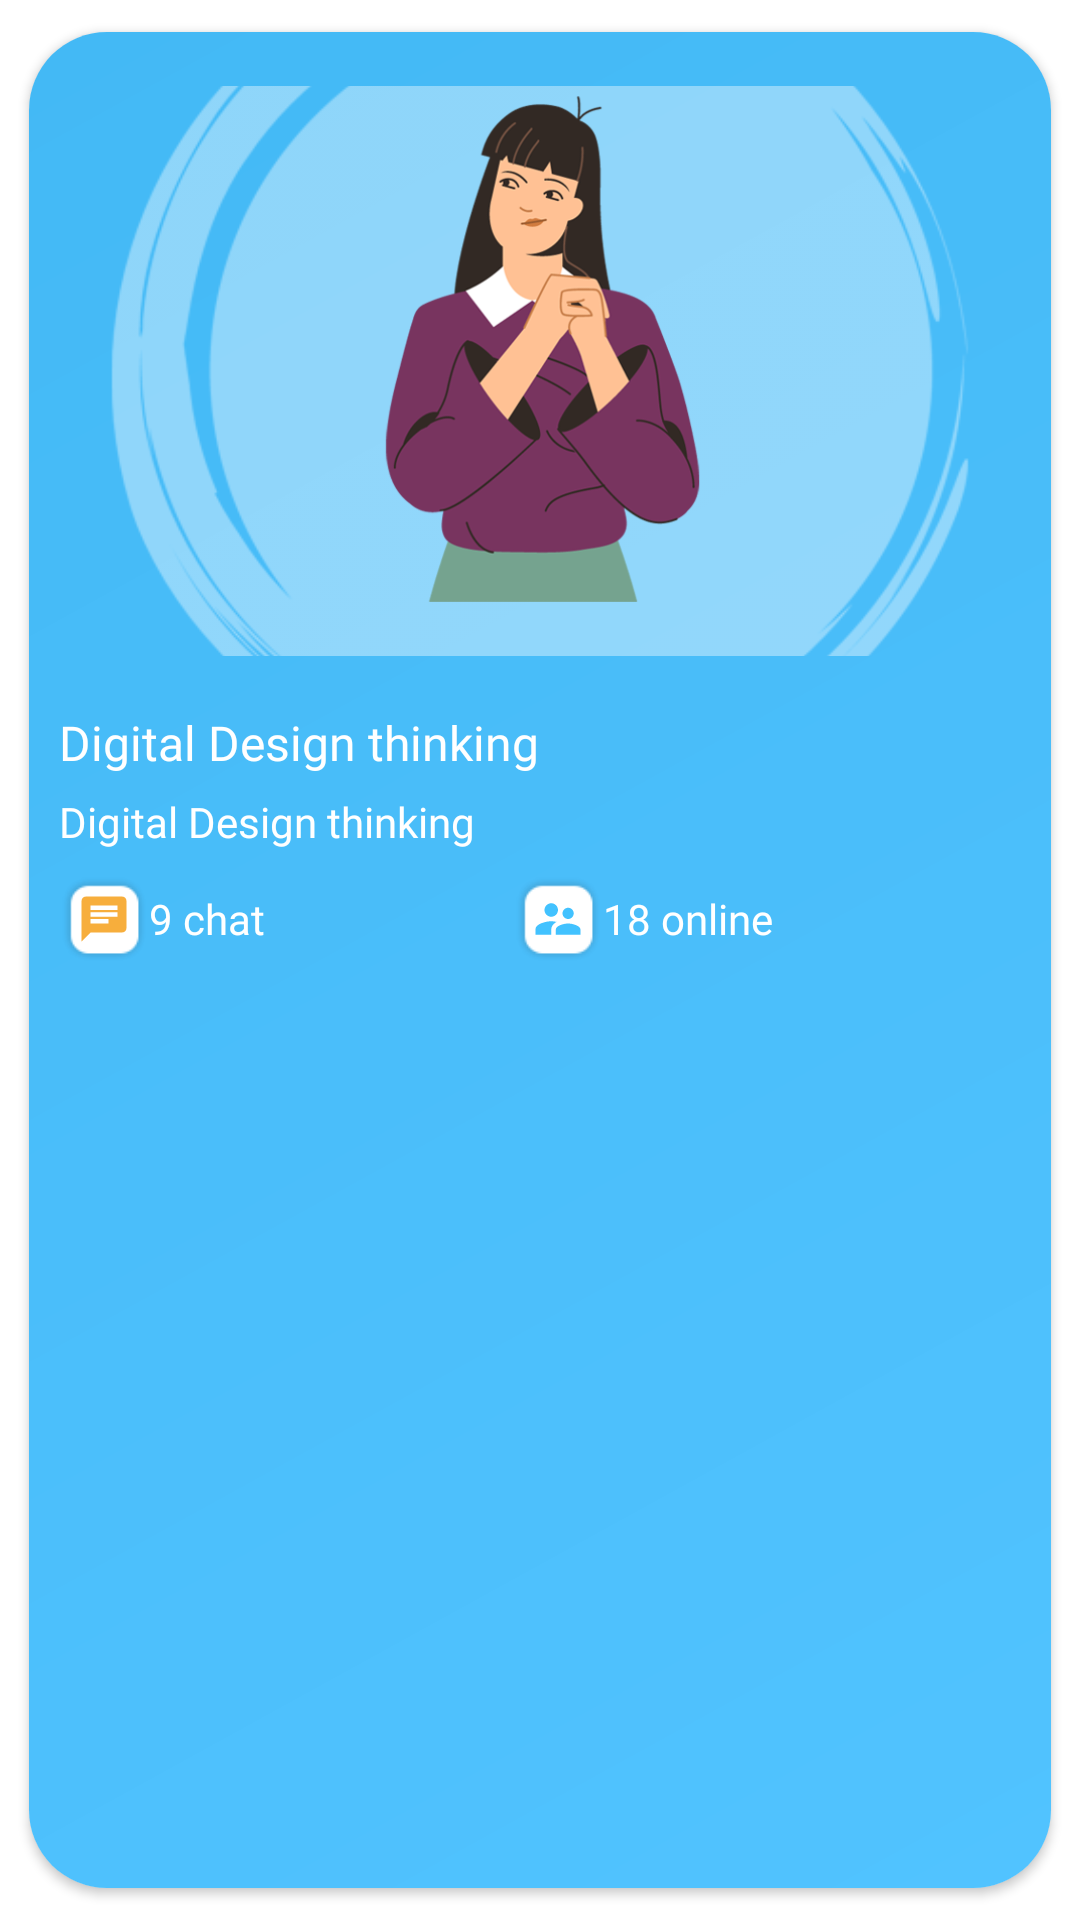

Where icons sit on this 1080×1920 app screen, as BBox(x1, y1, x2, y2):
supervisor account: BBox(524, 885, 593, 954)
